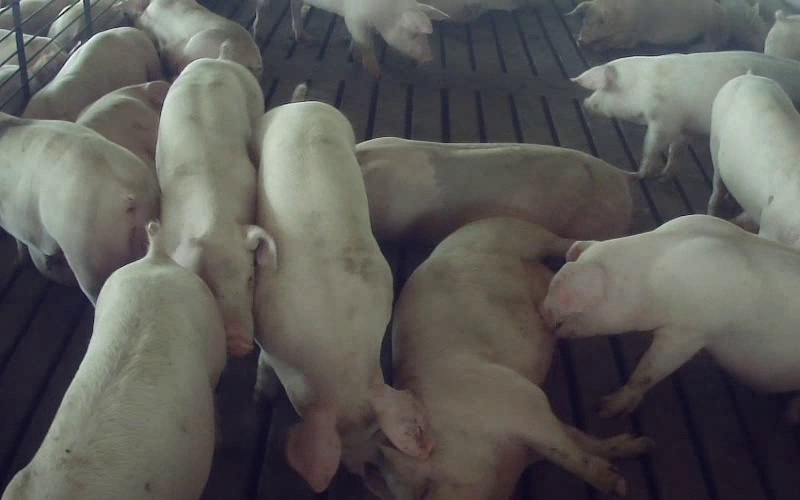pig: (366, 217, 648, 499), (254, 83, 430, 490), (3, 222, 225, 499), (544, 215, 799, 415), (156, 42, 274, 354), (356, 137, 629, 241), (574, 51, 799, 177), (709, 74, 799, 249), (23, 27, 161, 121), (124, 0, 261, 76), (570, 0, 726, 49)
